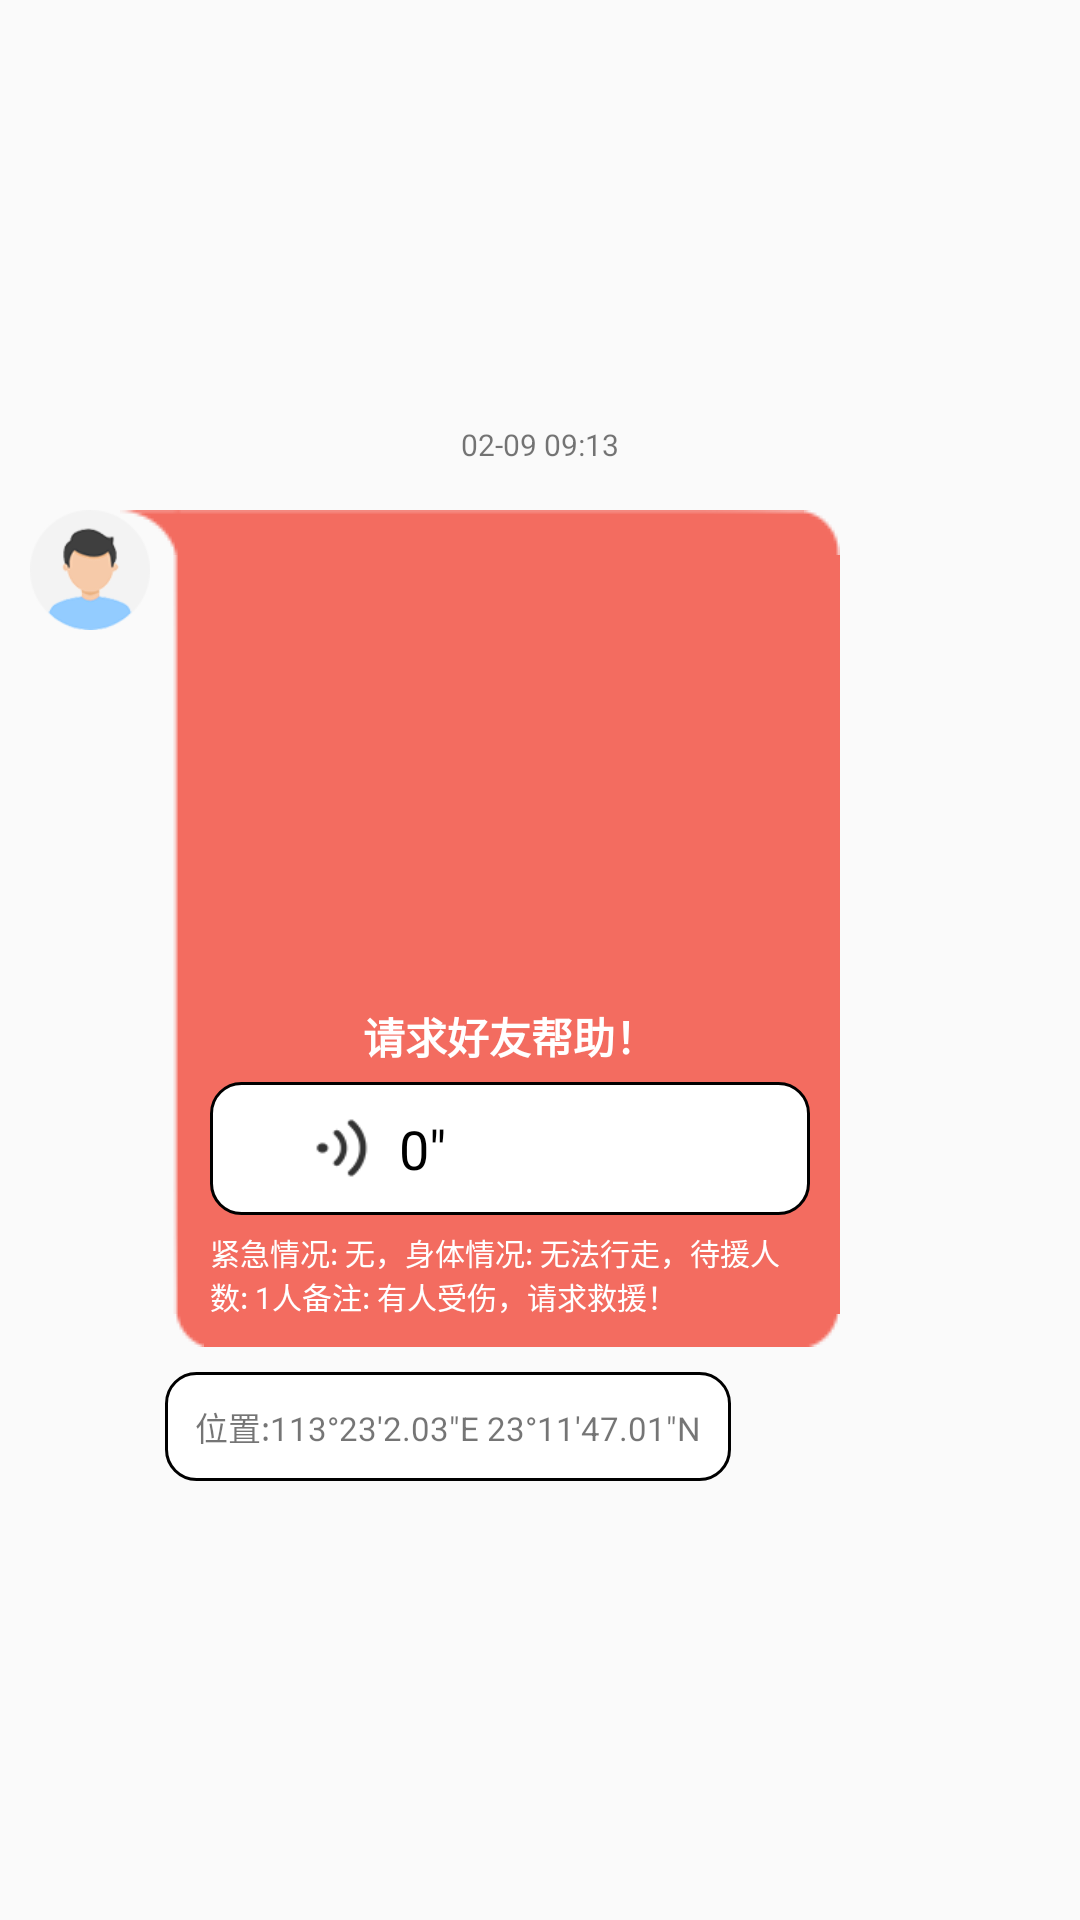

Point at icon controls on the screen. Image size 1080px×1920px, points as (x,y).
anim voice left play: (342,1148)
